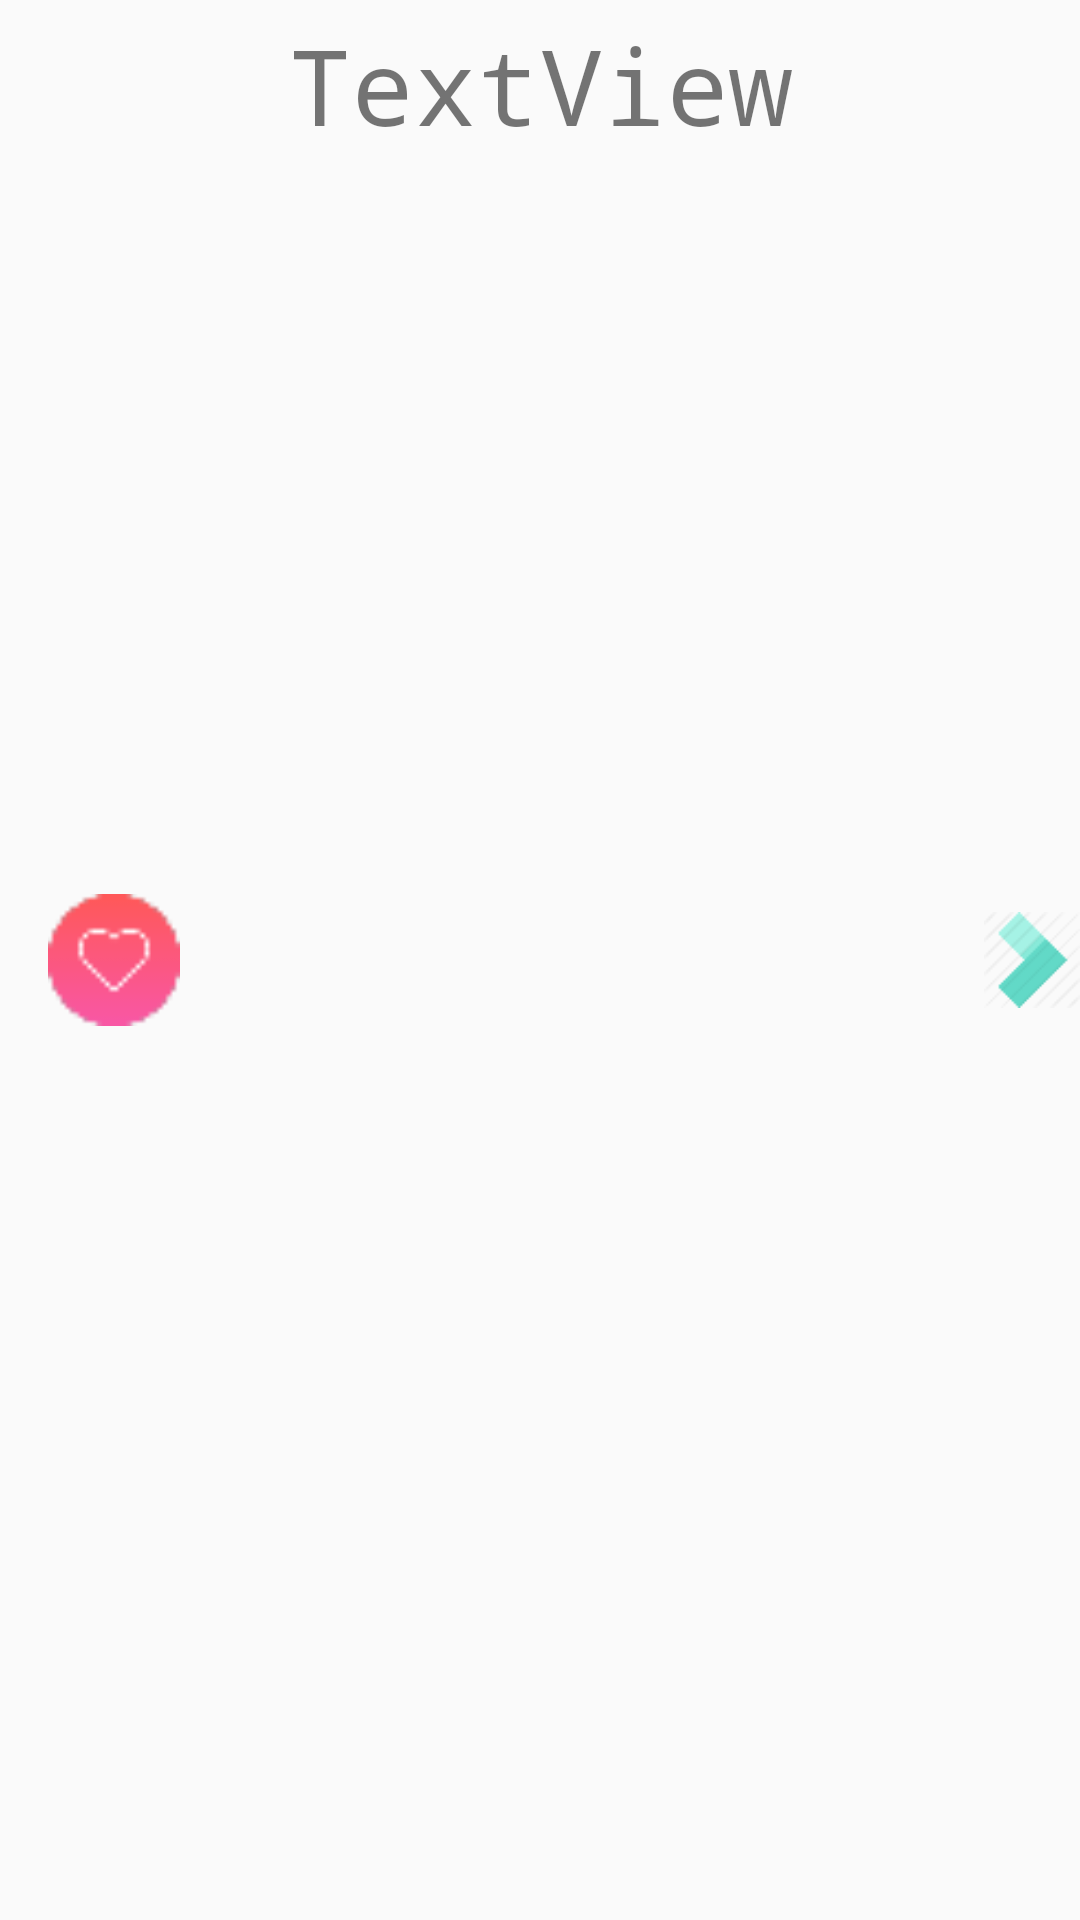

Icon bounding boxes for this 1080px x 1920px phone screenshot, format [left=x1, top=y1, right=x2, bottom=y2]:
favorite: [left=48, top=894, right=180, bottom=1026]
goin: [left=998, top=912, right=1068, bottom=1008]
